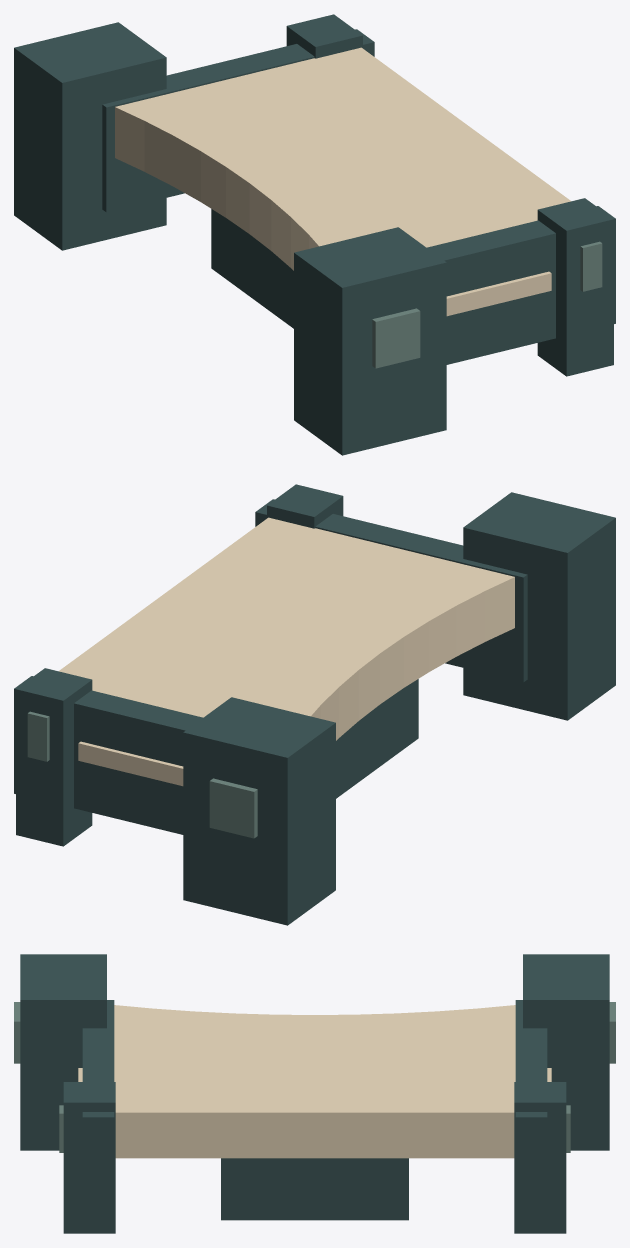
The model's file is Pier_Angled_00_lab2.glb.
The picture shows the model from 3 angles, top to bottom: view 1: azimuth 30°, elevation 25°; view 2: azimuth 150°, elevation 25°; view 3: azimuth 270°, elevation 25°; orthographic projection. The views are drawn at different scales.
Parts seen in each view (by area): view 1: Pier_Angled_00; view 2: Pier_Angled_00; view 3: Pier_Angled_00.
Part boxes in pixels (x1,y1,x2,y2): Pier_Angled_00: (14, 14, 615, 455); Pier_Angled_00: (14, 484, 615, 925); Pier_Angled_00: (14, 954, 615, 1233).
Bounding box in the file's own units: 2.21 × 1.15 × 4.17.
